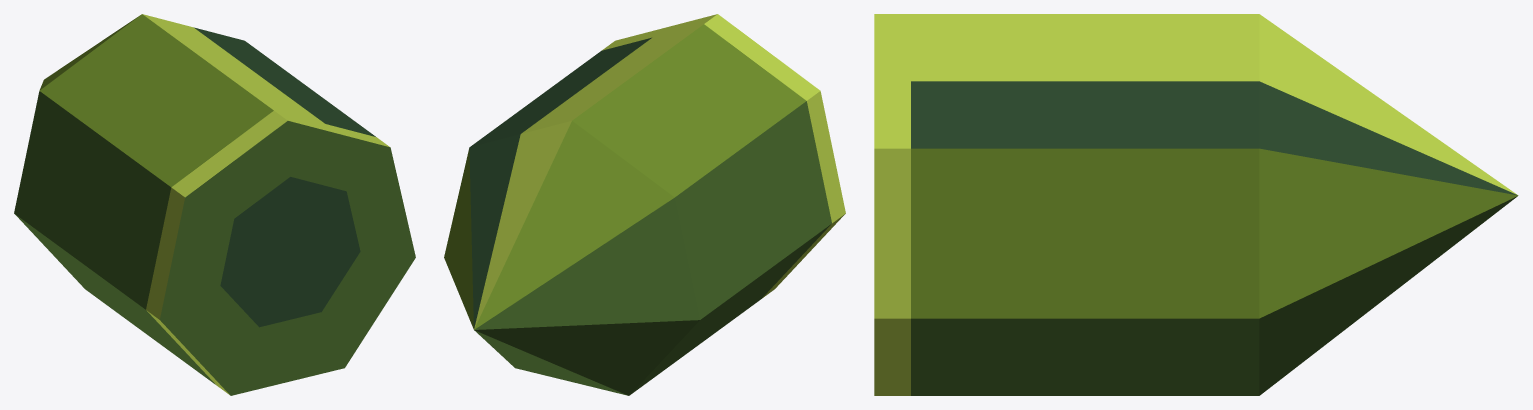
The model's file is bullet.fbx.
3 views of the same model, side by side, from view 1: azimuth 30°, elevation 25°; view 2: azimuth 150°, elevation 25°; view 3: azimuth 270°, elevation 25° (orthographic). The views are drawn at different scales.
Parts seen in each view (by area): view 1: Mesh_Bullet01; view 2: Mesh_Bullet01; view 3: Mesh_Bullet01.
Part boxes in pixels (x1,y1,x2,y2): Mesh_Bullet01: [14, 14, 415, 395]; Mesh_Bullet01: [444, 14, 845, 395]; Mesh_Bullet01: [874, 14, 1518, 395].
Bounding box in the file's own units: 0.5475 × 0.9029 × 0.5337.
